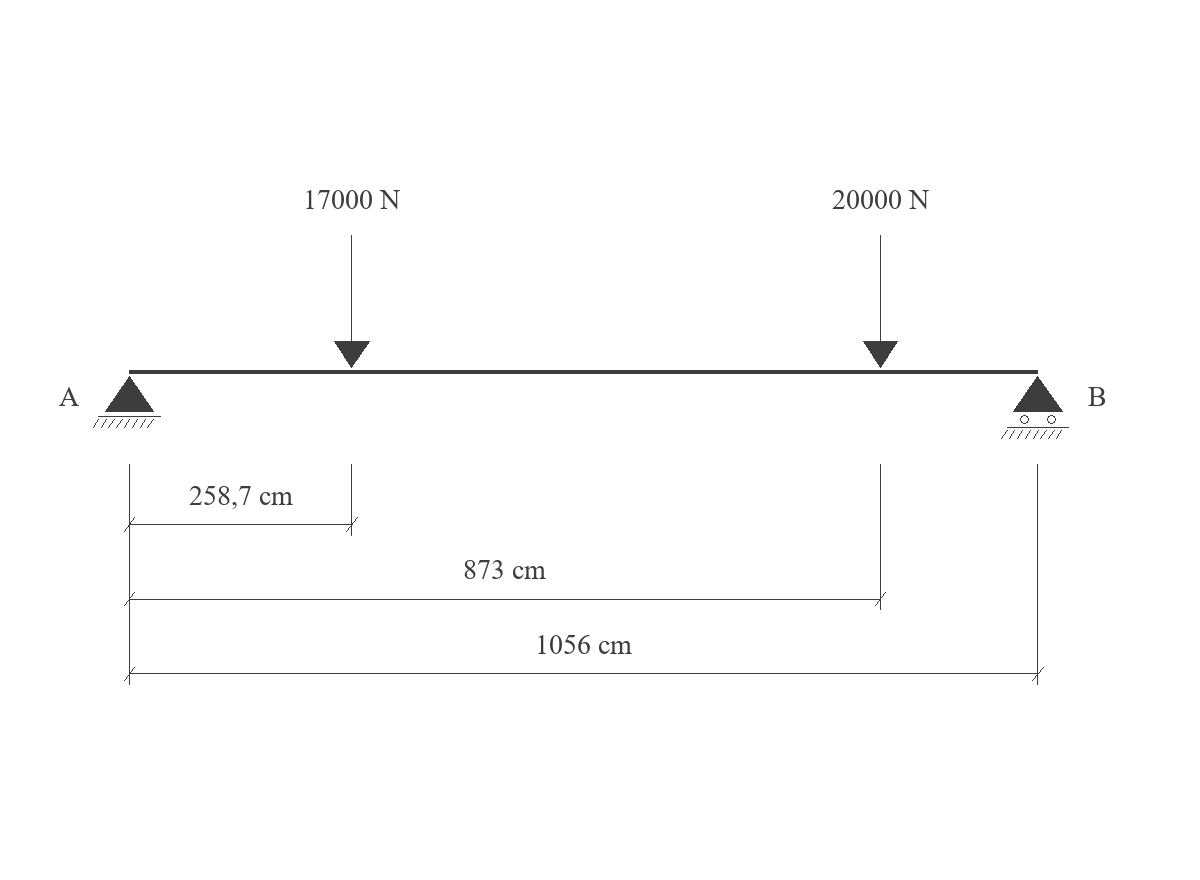pin_support: (93, 376, 161, 428)
point_load: (334, 235, 370, 368), (863, 235, 898, 368)
roller_support: (1001, 376, 1069, 439)
